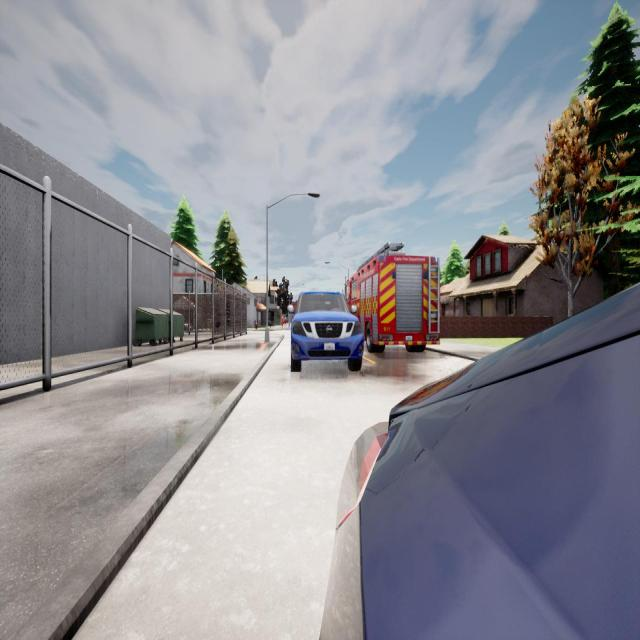Pedestrian: (280, 313, 285, 328)
Vehicle: (318, 285, 640, 640), (344, 244, 440, 352), (290, 290, 364, 371)
